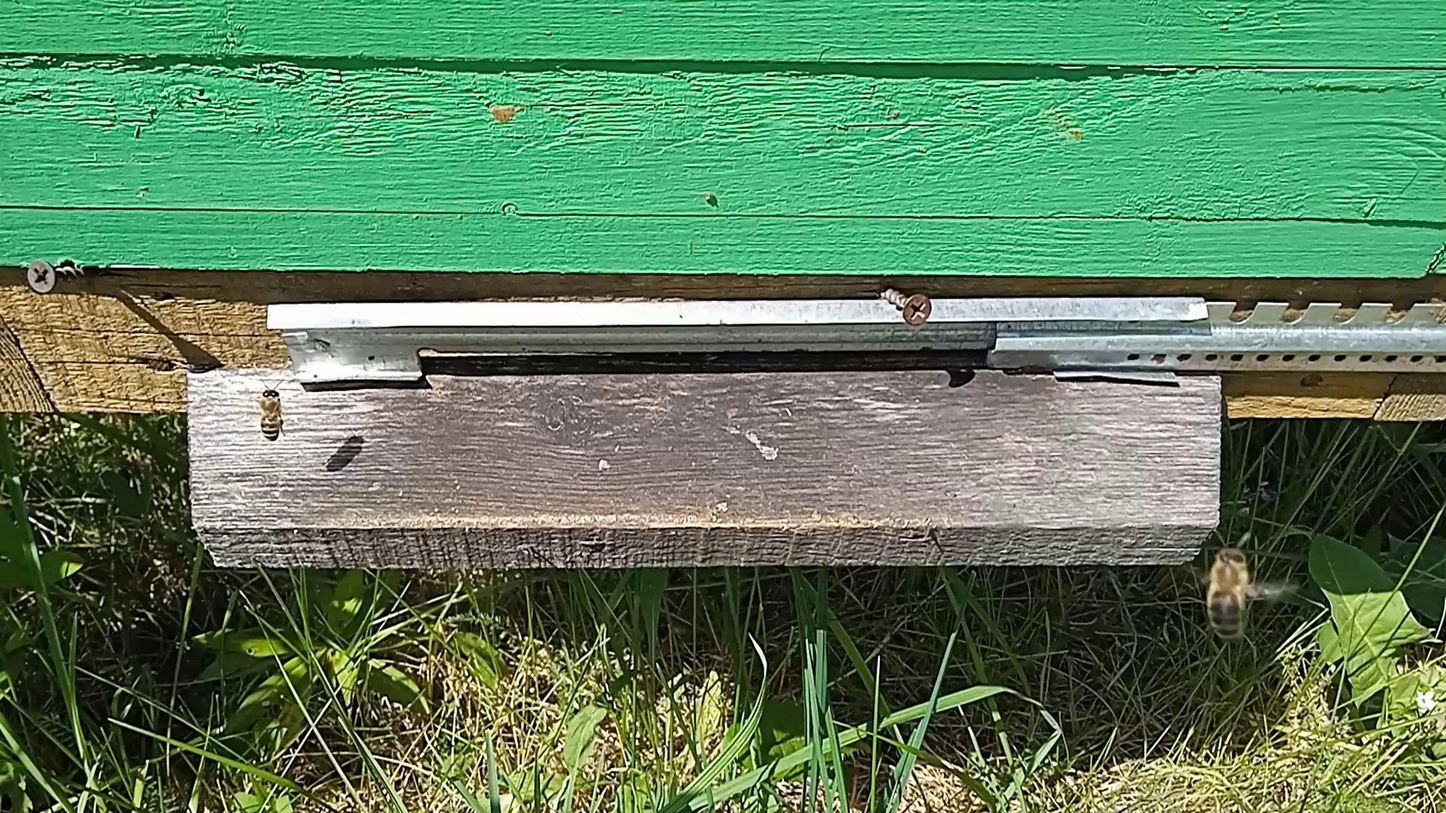worker-bee: (1206, 547, 1284, 640), (259, 386, 282, 440)
